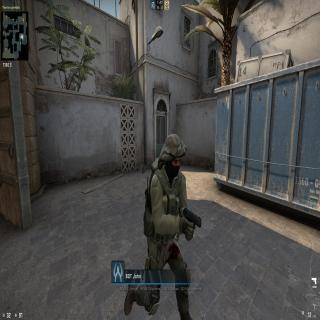CT-Head: (156, 128, 188, 180)
